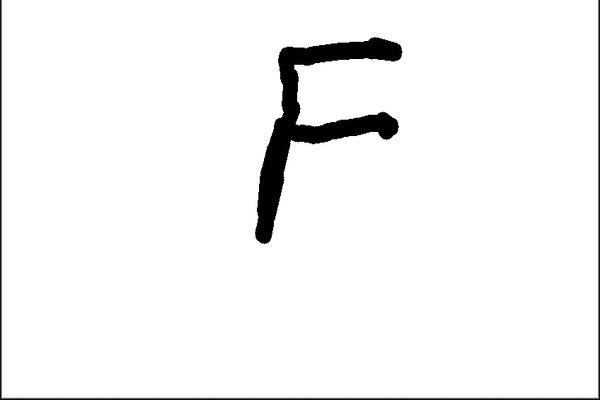F: (250, 33, 408, 247)
